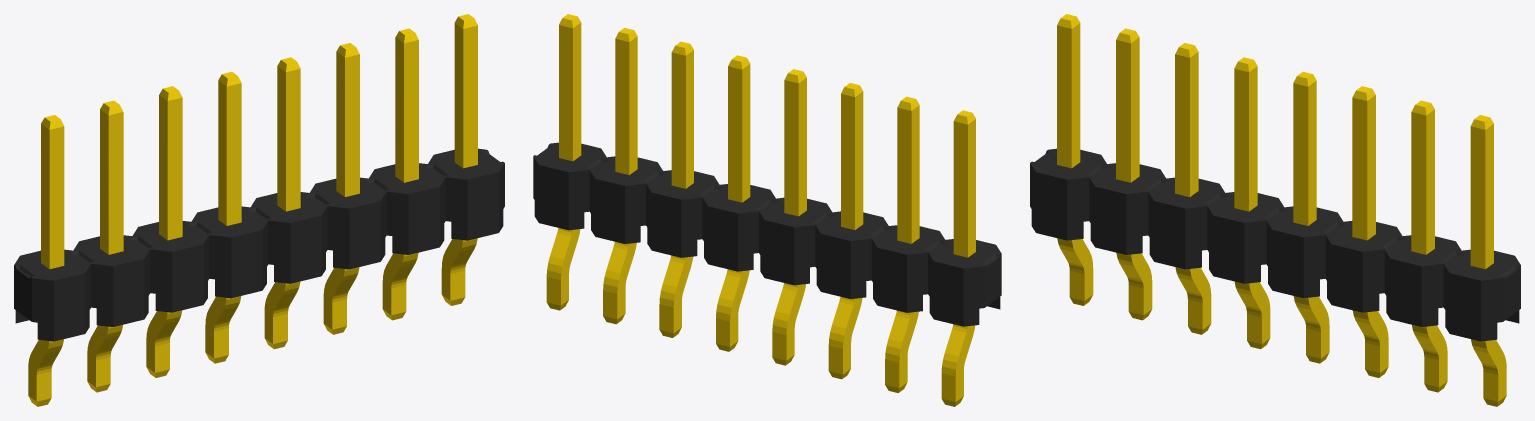
File: DS1025 (PLS-08T CONNFLY).obj
3 views of the same model, side by side, from view 1: azimuth 30°, elevation 25°; view 2: azimuth 150°, elevation 25°; view 3: azimuth 330°, elevation 25° (orthographic). The views are drawn at different scales.
Parts seen in each view (by area): view 1: DS1025_(PLS-08T_CONNFLY); view 2: DS1025_(PLS-08T_CONNFLY); view 3: DS1025_(PLS-08T_CONNFLY).
Part boxes in pixels (bbox=[...]): DS1025_(PLS-08T_CONNFLY): bbox=[14, 14, 504, 406]; DS1025_(PLS-08T_CONNFLY): bbox=[533, 14, 1001, 406]; DS1025_(PLS-08T_CONNFLY): bbox=[1030, 14, 1520, 406].
Size of the model in its own units: 0.028 by 0.0166 by 0.00349.
